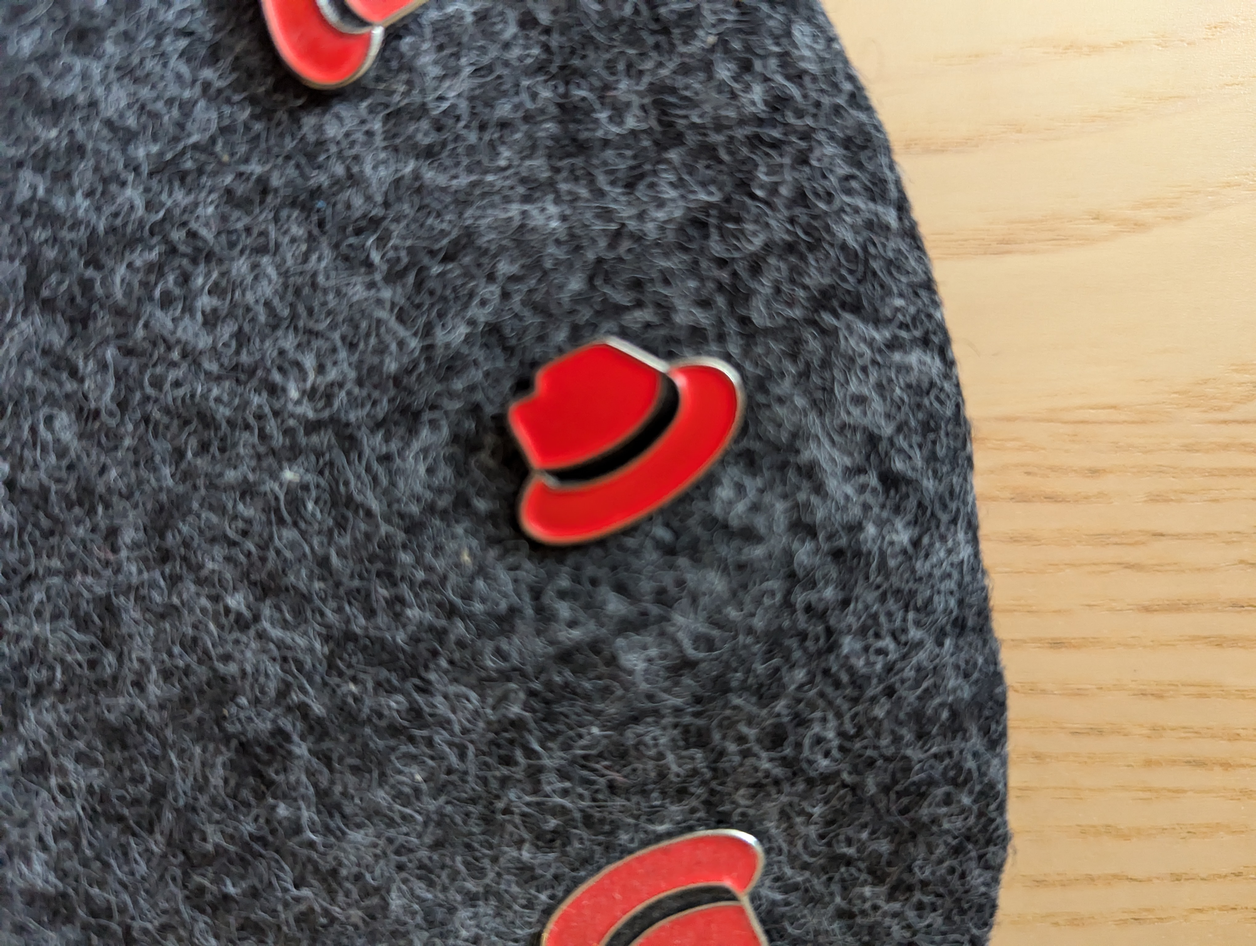Red-Hat: (469, 309, 828, 586), (478, 785, 825, 946), (228, 0, 457, 122)
